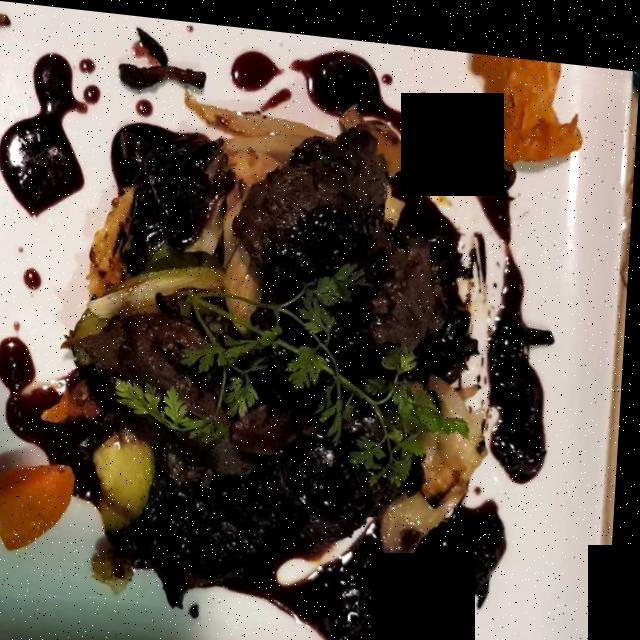beef: (237, 115, 387, 279)
carrot: (0, 452, 78, 554)
